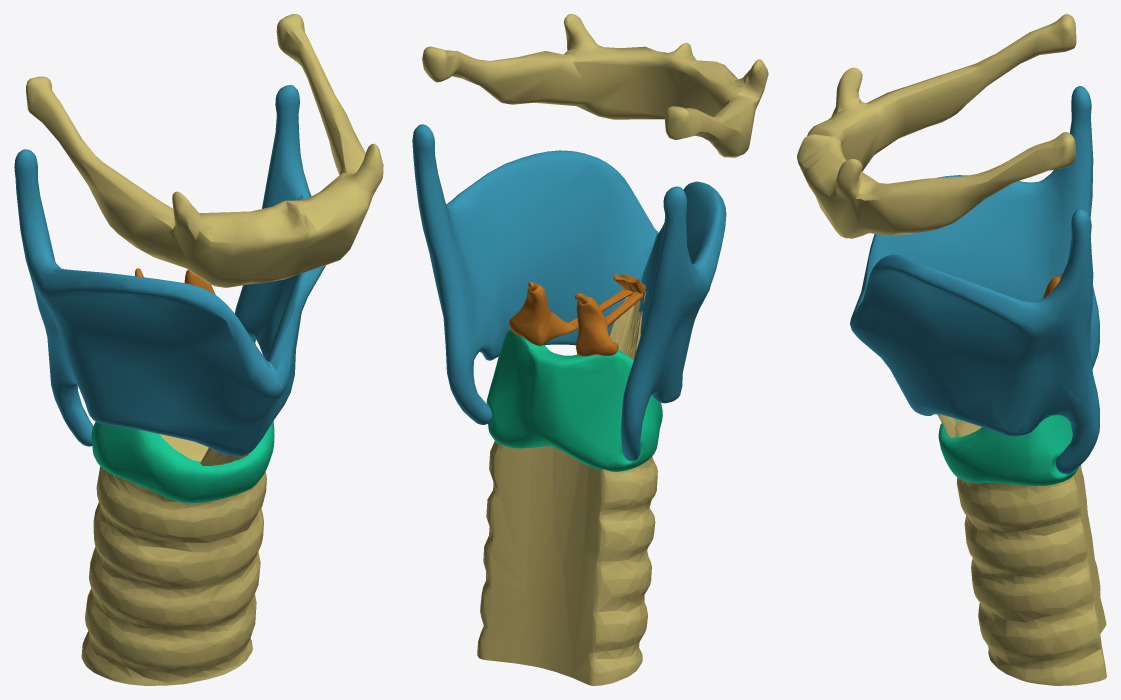
File: fbx_frame_0049.obj
3 views of the same model, side by side, from view 1: azimuth 30°, elevation 25°; view 2: azimuth 150°, elevation 25°; view 3: azimuth 270°, elevation 25° (orthographic). The views are drawn at different scales.
Visible parts, largest first — view 1: maya2sketchfab.010, maya2sketchfab.001, maya2sketchfab.011, maya2sketchfab.005; view 2: maya2sketchfab.010, maya2sketchfab.001, maya2sketchfab.011, maya2sketchfab.005, maya2sketchfab.006, maya2sketchfab.004; view 3: maya2sketchfab.010, maya2sketchfab.001, maya2sketchfab.011, maya2sketchfab.005.
Part boxes in pixels (x1=…): maya2sketchfab.010: x1=14, y1=85, x2=325, y2=456; maya2sketchfab.001: x1=81, y1=434, x2=266, y2=685; maya2sketchfab.011: x1=26, y1=14, x2=383, y2=287; maya2sketchfab.005: x1=91, y1=340, x2=274, y2=503; maya2sketchfab.010: x1=412, y1=124, x2=726, y2=461; maya2sketchfab.001: x1=477, y1=291, x2=657, y2=685; maya2sketchfab.011: x1=422, y1=14, x2=768, y2=157; maya2sketchfab.005: x1=486, y1=329, x2=662, y2=471; maya2sketchfab.006: x1=509, y1=281, x2=576, y2=346; maya2sketchfab.004: x1=575, y1=293, x2=618, y2=356; maya2sketchfab.010: x1=850, y1=86, x2=1099, y2=474; maya2sketchfab.001: x1=937, y1=414, x2=1106, y2=685; maya2sketchfab.011: x1=797, y1=14, x2=1076, y2=238; maya2sketchfab.005: x1=938, y1=415, x2=1078, y2=485.
Size of the model in its own units: 38.66 by 78.53 by 38.36.
